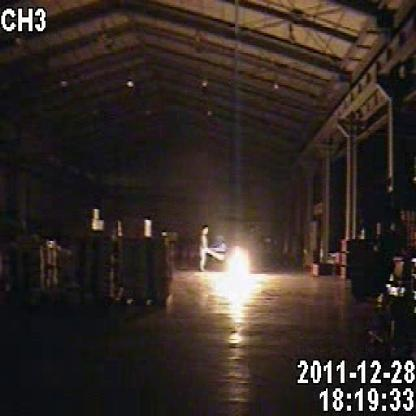fire: (213, 242, 279, 308)
